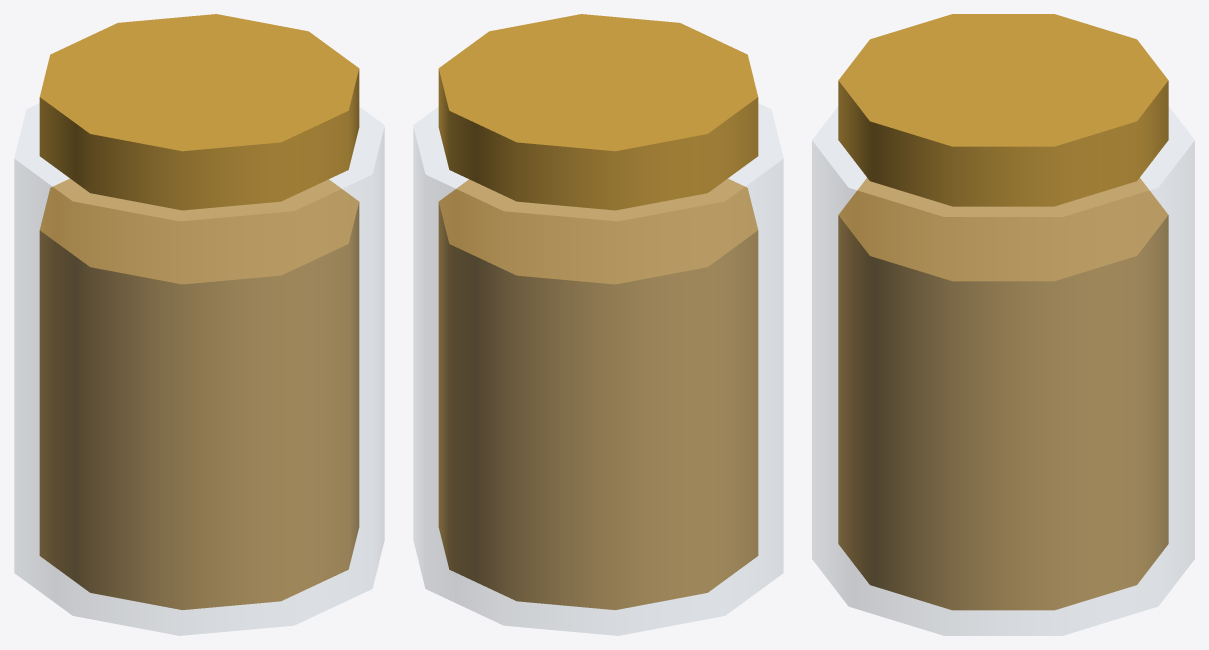
Rendered from good-jarcompote.glb.
3 renders of one model, left to right at view 1: azimuth 30°, elevation 25°; view 2: azimuth 150°, elevation 25°; view 3: azimuth 270°, elevation 25°, orthographic.
Parts seen in each view (by area): view 1: #d8e8f0 rough 0.1 alpha 0.3_noshadow, #d8a040_noshadow, #d8a840 metal 0.6 rough 0.4_noshadow; view 2: #d8e8f0 rough 0.1 alpha 0.3_noshadow, #d8a040_noshadow, #d8a840 metal 0.6 rough 0.4_noshadow; view 3: #d8e8f0 rough 0.1 alpha 0.3_noshadow, #d8a040_noshadow, #d8a840 metal 0.6 rough 0.4_noshadow.
Part boxes in pixels (x1,y1,x2,y2): #d8e8f0 rough 0.1 alpha 0.3_noshadow: [14, 103, 384, 635]; #d8a040_noshadow: [39, 178, 359, 610]; #d8a840 metal 0.6 rough 0.4_noshadow: [39, 14, 359, 210]; #d8e8f0 rough 0.1 alpha 0.3_noshadow: [413, 103, 783, 635]; #d8a040_noshadow: [438, 178, 758, 610]; #d8a840 metal 0.6 rough 0.4_noshadow: [438, 14, 758, 210]; #d8e8f0 rough 0.1 alpha 0.3_noshadow: [812, 107, 1194, 635]; #d8a040_noshadow: [838, 178, 1168, 610]; #d8a840 metal 0.6 rough 0.4_noshadow: [838, 14, 1168, 206].
Size of the model in its own units: 0.1103 by 0.16 by 0.116.
